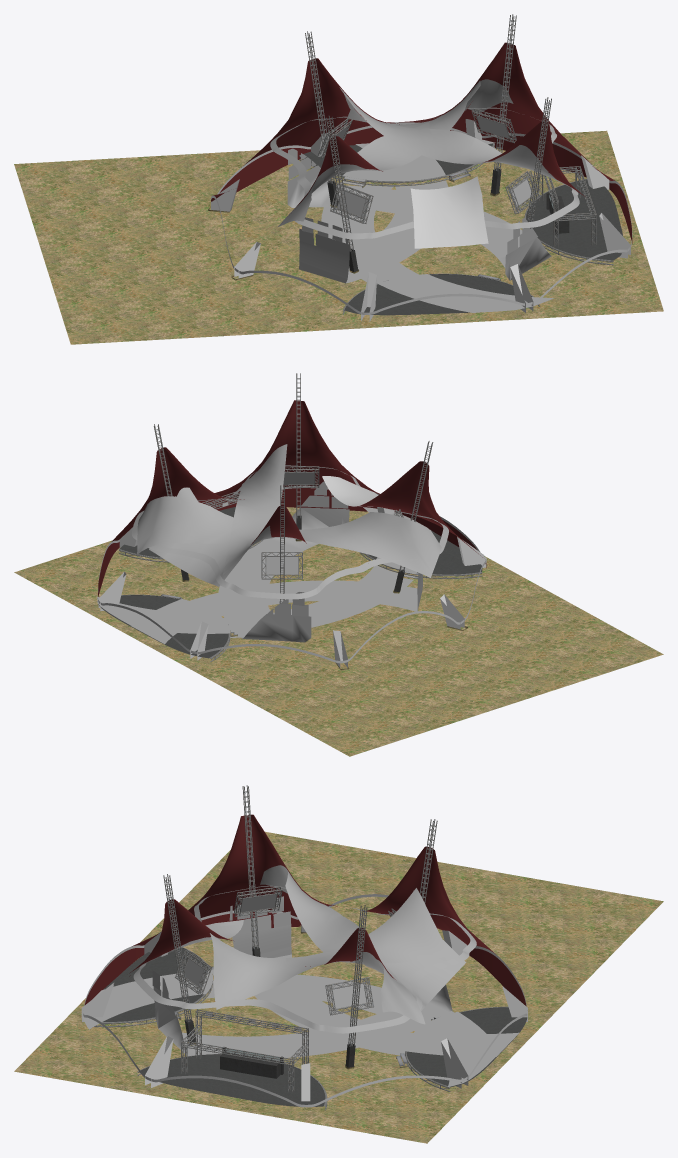
The model's file is Dance_Tent.fbx.
The picture shows the model from 3 angles, top to bottom: view 1: azimuth 30°, elevation 25°; view 2: azimuth 150°, elevation 25°; view 3: azimuth 270°, elevation 25°; orthographic projection. The views are drawn at different scales.
Visible parts, largest first — view 1: Ground, Tent_Inner, ProjectionStrip_E, ProjectionStrip_C, ProjectionStrip_D, Logo_Projection_A, ProjectionStrip_A, Stage_C_Surface, ProjectionStrip_B, Stage_B_Surface, Glow_Strip, Tent_Drape_Inner (+14 smaller); view 2: Ground, ProjectionStrip_B, Tent_Inner, ProjectionStrip_D, ProjectionStrip_E, ProjectionStrip_C, ProjectionStrip_A, Glow_Strip, Logo_Projection_B, Stage_A_Surface, Tent_Drape_Inner, Logo_Projection_A (+3 smaller); view 3: Ground, Tent_Inner, ProjectionStrip_A, ProjectionStrip_E, ProjectionStrip_C, ProjectionStrip_D, Stage_C_Surface, ProjectionStrip_B, Glow_Strip, DJ_Frame, Tent_Drape_Inner, Stage_A_Surface (+13 smaller).
Boxes of the visible parts, x1,y1,x2,y2 form: Ground: (14, 130, 663, 344); Tent_Inner: (211, 42, 615, 210); ProjectionStrip_E: (321, 139, 553, 312); ProjectionStrip_C: (299, 143, 448, 283); ProjectionStrip_D: (287, 148, 551, 280); Logo_Projection_A: (410, 176, 488, 248); ProjectionStrip_A: (339, 87, 557, 180); Stage_C_Surface: (526, 179, 622, 260); ProjectionStrip_B: (278, 79, 513, 226); Stage_B_Surface: (344, 274, 531, 315); Glow_Strip: (270, 107, 579, 239); Tent_Drape_Inner: (211, 122, 632, 314); Ground: (14, 507, 663, 756); ProjectionStrip_B: (137, 496, 441, 577); Tent_Inner: (111, 400, 482, 558); ProjectionStrip_D: (218, 481, 349, 642); ProjectionStrip_E: (97, 507, 428, 637); ProjectionStrip_C: (131, 573, 422, 644); ProjectionStrip_A: (223, 444, 287, 574); Glow_Strip: (131, 465, 448, 599); Logo_Projection_B: (149, 487, 263, 586); Stage_A_Surface: (98, 595, 228, 658); Tent_Drape_Inner: (98, 485, 486, 663); Logo_Projection_A: (322, 476, 397, 510); Ground: (14, 831, 663, 1143); Tent_Inner: (129, 814, 495, 979); ProjectionStrip_A: (210, 888, 451, 1009); ProjectionStrip_E: (82, 969, 499, 1086); ProjectionStrip_C: (229, 896, 519, 1056); ProjectionStrip_D: (152, 970, 452, 1057); Stage_C_Surface: (139, 1054, 325, 1106); ProjectionStrip_B: (260, 865, 425, 1024); Glow_Strip: (133, 885, 476, 1033); DJ_Frame: (180, 1009, 308, 1092); Tent_Drape_Inner: (83, 894, 527, 1107); Stage_A_Surface: (406, 1007, 527, 1087).
Bounding box in the file's own units: 5452 × 1429 × 4763.
